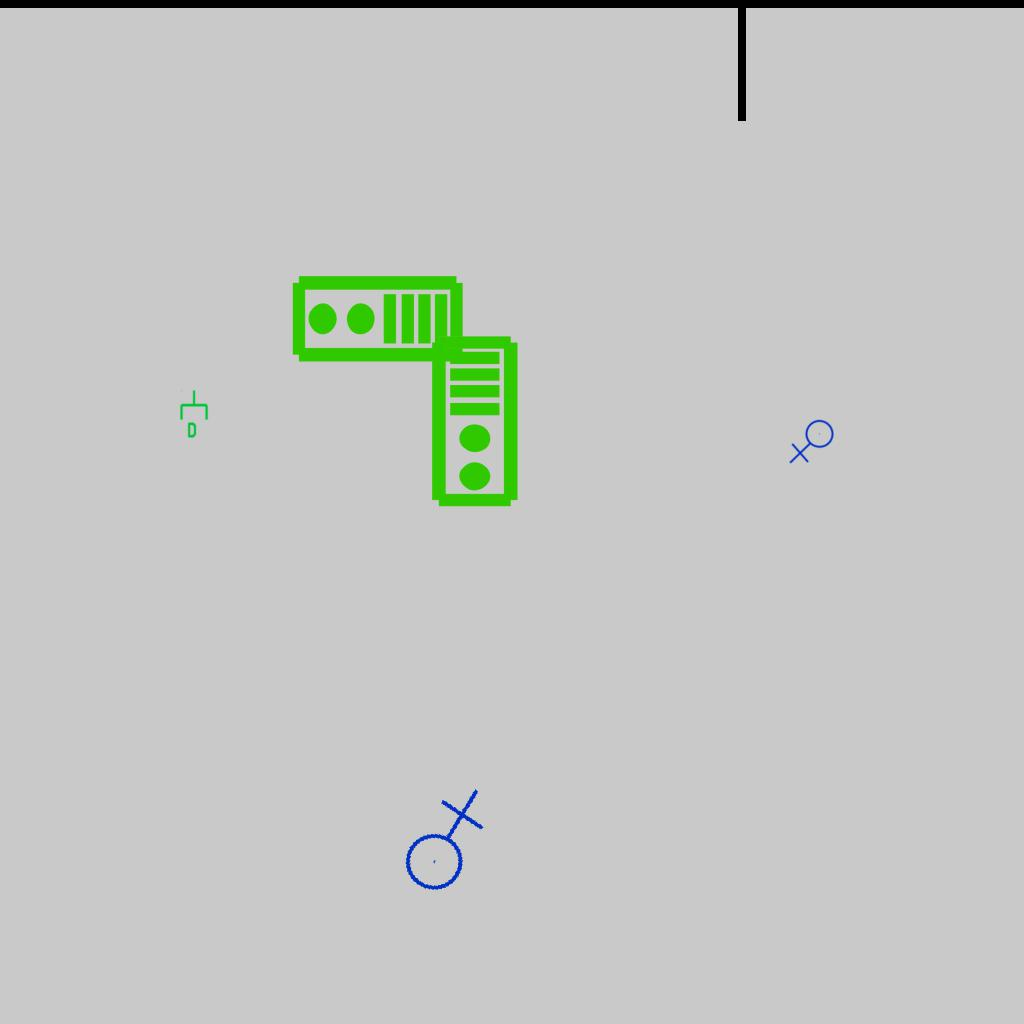Datenanschluss_einfach: (178, 389, 212, 439)
Elektroanschluss_allgemein_230V_Geraeteanschlussdose_230V: (381, 783, 502, 901), (789, 419, 838, 466)
Gegensprechanlage_mit_Video: (289, 273, 465, 368), (429, 334, 524, 510)
